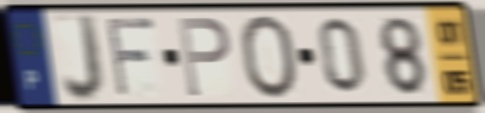0: (316, 15, 371, 98)
8: (374, 14, 429, 97)
F: (103, 15, 158, 101)
J: (60, 11, 107, 105)
O: (237, 12, 301, 101)
P: (175, 14, 233, 100)
